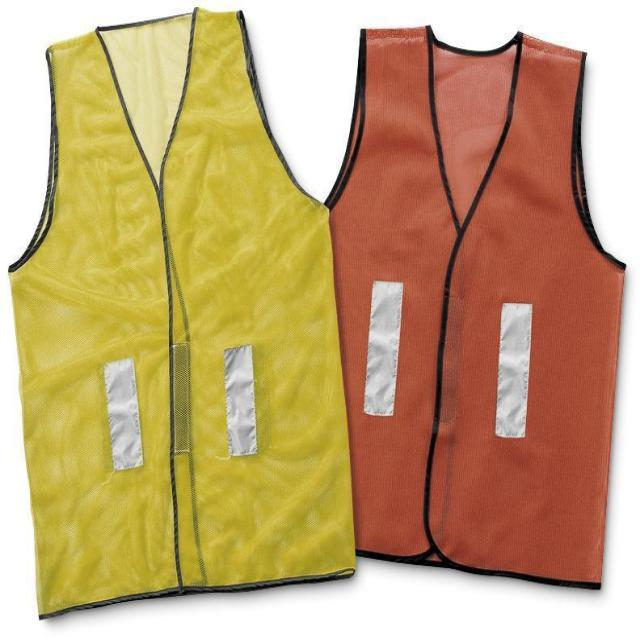Vest: (7, 9, 357, 622), (320, 25, 625, 601)
